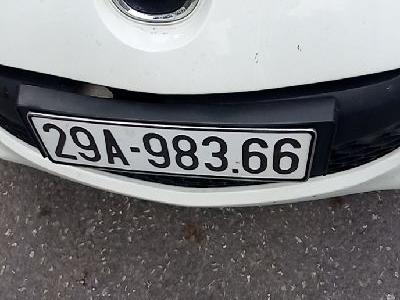lisence: (24, 111, 319, 183)
